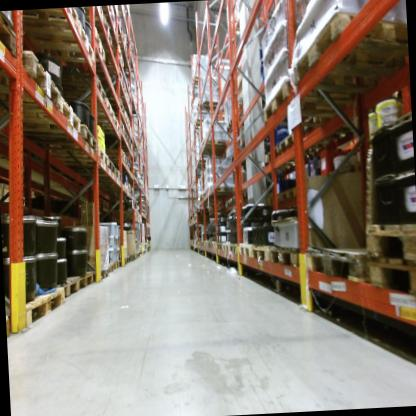pallet: (284, 0, 407, 90), (263, 72, 376, 148), (1, 78, 84, 140), (0, 44, 64, 118), (20, 19, 101, 74), (305, 234, 385, 287), (28, 121, 98, 159), (15, 280, 66, 329), (370, 244, 416, 298), (12, 8, 85, 39), (361, 222, 416, 260), (46, 138, 109, 168), (67, 66, 108, 105), (75, 96, 121, 126), (0, 12, 20, 70), (54, 268, 82, 309), (119, 133, 136, 197), (269, 241, 305, 267), (73, 264, 95, 301), (77, 158, 116, 178), (90, 18, 116, 48), (296, 111, 323, 139), (274, 128, 296, 162), (93, 116, 123, 139), (277, 182, 302, 205), (102, 40, 125, 64), (195, 96, 222, 115), (106, 66, 125, 93), (90, 32, 107, 61), (249, 242, 272, 261), (206, 181, 237, 195), (101, 146, 126, 163), (5, 311, 17, 345), (200, 135, 225, 151), (89, 266, 110, 285), (260, 142, 277, 165), (192, 74, 214, 91), (202, 188, 227, 202), (127, 136, 142, 157), (239, 239, 254, 257), (114, 89, 125, 113), (227, 117, 241, 132), (228, 240, 240, 257), (106, 256, 115, 277), (233, 95, 245, 110), (124, 107, 133, 127), (222, 123, 236, 135), (113, 167, 124, 182), (118, 117, 127, 135), (125, 89, 133, 109), (112, 257, 122, 271), (122, 157, 132, 170), (120, 255, 128, 270), (132, 250, 141, 263), (123, 248, 130, 263), (222, 241, 231, 252), (216, 241, 223, 254), (211, 239, 217, 252), (128, 254, 135, 264), (208, 239, 212, 250)
